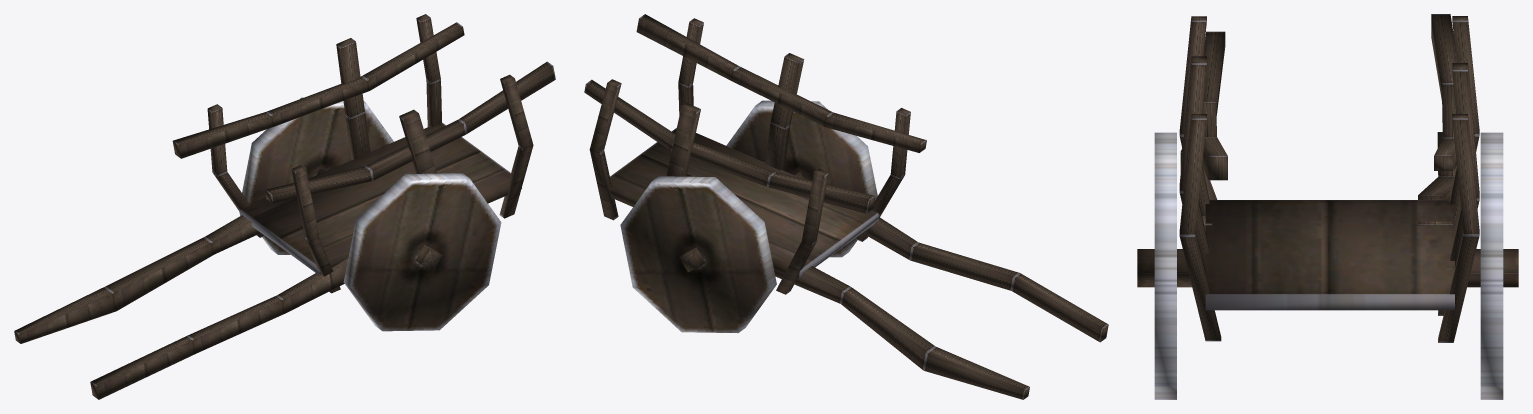
Rendered from stst125.dae.
3 renders of one model, left to right at view 1: azimuth 30°, elevation 25°; view 2: azimuth 150°, elevation 25°; view 3: azimuth 270°, elevation 25°, orthographic. The views are drawn at different scales.
Parts seen in each view (by area): view 1: cart; view 2: cart; view 3: cart.
Boxes of the visible parts, bbox=[...] form: cart: bbox=[14, 14, 555, 399]; cart: bbox=[584, 14, 1108, 399]; cart: bbox=[1137, 14, 1518, 399].
Size of the model in its own units: 3.63 by 1.65 by 1.66.
Materials: 1 (1 with a texture image).
